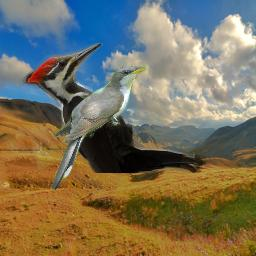Cuckoo: (51, 66, 146, 190)
Woodpecker: (16, 43, 206, 173)
